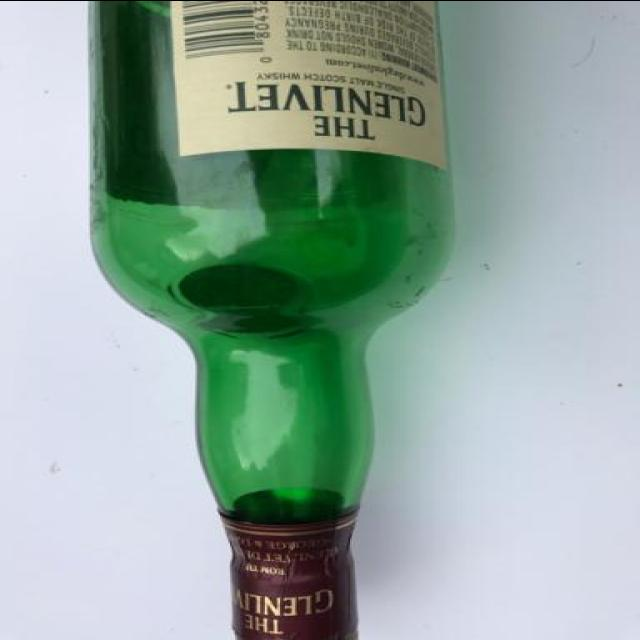Glass Bottle: (86, 1, 458, 640)
